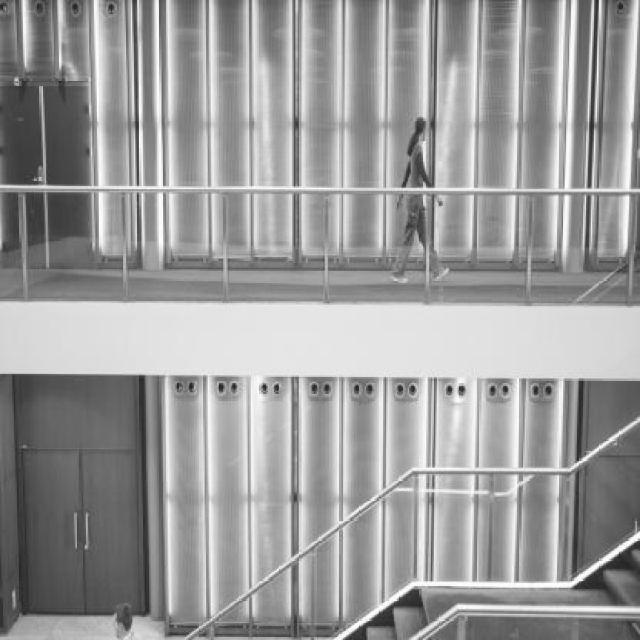stair: (338, 583, 438, 640), (598, 532, 640, 638)
